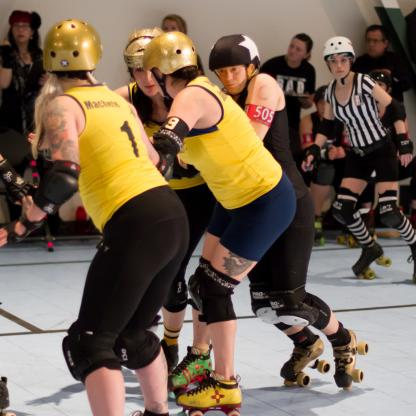Helmet: (34, 17, 101, 84), (144, 30, 199, 100), (209, 35, 261, 99), (120, 30, 165, 70), (322, 37, 355, 84), (367, 70, 393, 95), (314, 84, 329, 116)
